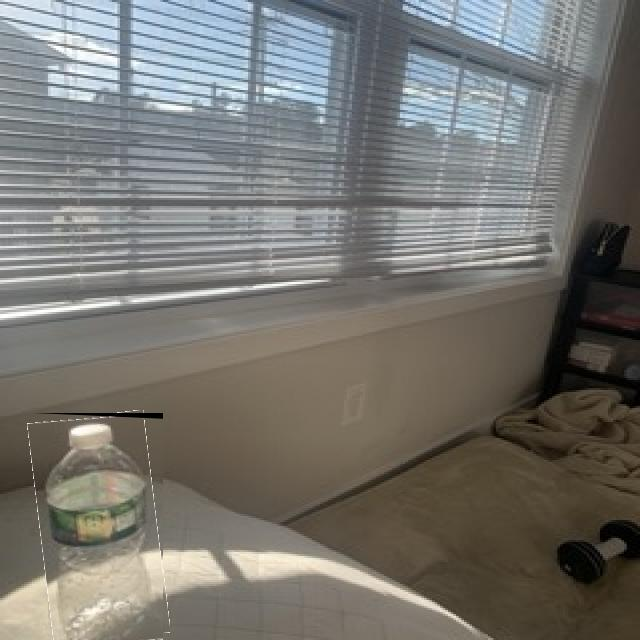water_bottle: (33, 413, 163, 640)
